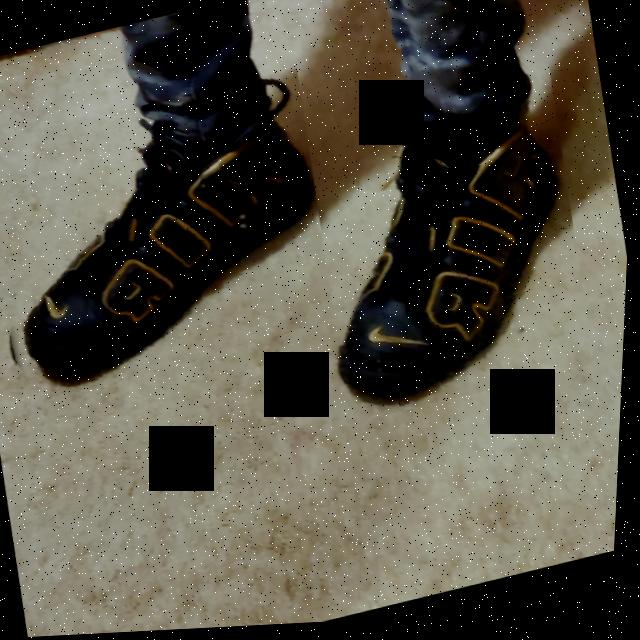shoe: (264, 53, 610, 438), (0, 69, 349, 414)
